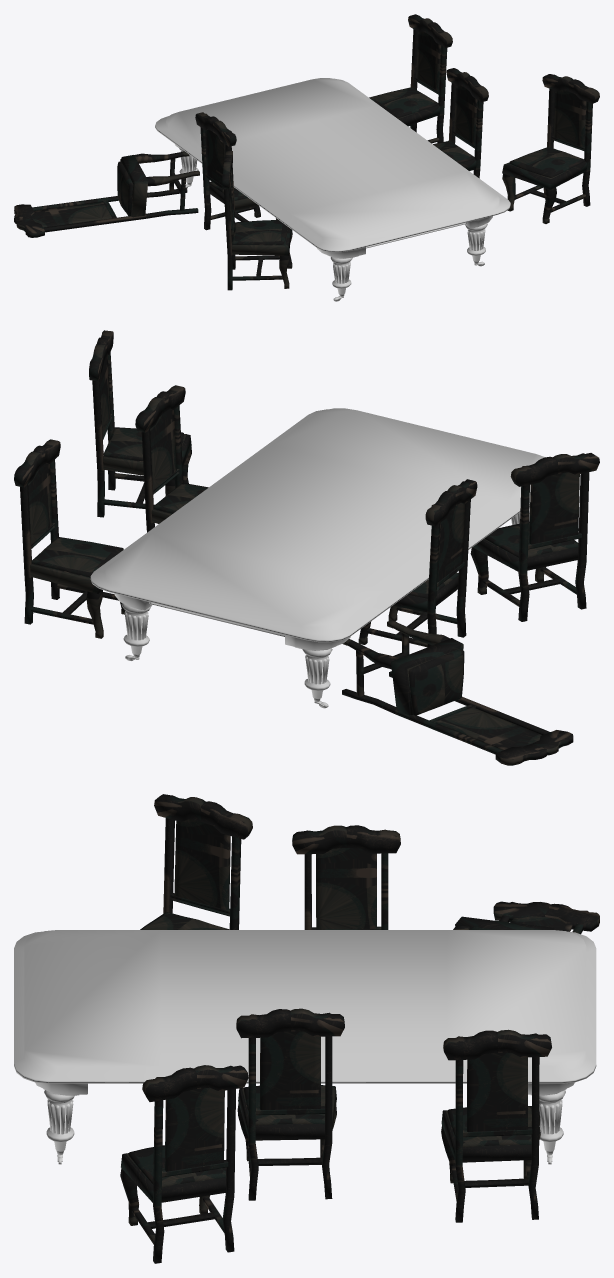
The model's file is coraline.gltf.
3 views of the same model, one above another, from view 1: azimuth 30°, elevation 25°; view 2: azimuth 150°, elevation 25°; view 3: azimuth 270°, elevation 25° (orthographic). The views are drawn at different scales.
Visible parts, largest first — view 1: Test-material, Material-material; view 2: Test-material, Material-material; view 3: Test-material, Material-material.
Part boxes in pixels (x1,y1,x2,y2): Test-material: (155,78,510,301); Material-material: (14,14,599,290); Test-material: (90,408,544,708); Material-material: (14,330,599,765); Test-material: (14,930,596,1164); Material-material: (120,794,599,1263).
Bounding box in the file's own units: 43.02 × 11 × 29.55.
